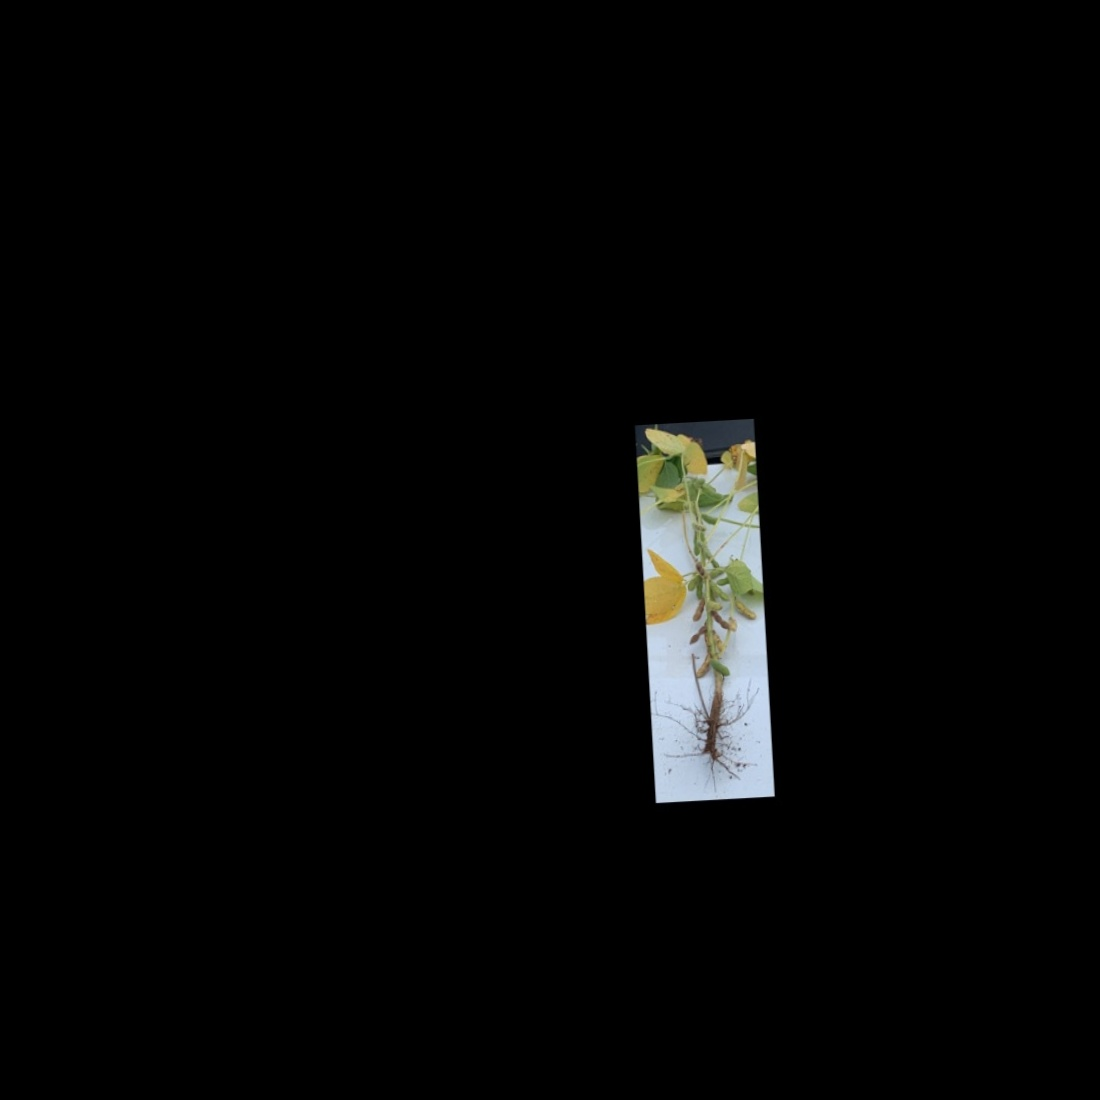pod: (731, 595, 758, 621), (691, 652, 712, 682), (710, 577, 733, 603), (688, 593, 707, 625), (710, 607, 733, 633), (687, 624, 708, 647), (710, 658, 733, 678)
soy: (639, 420, 768, 771)
